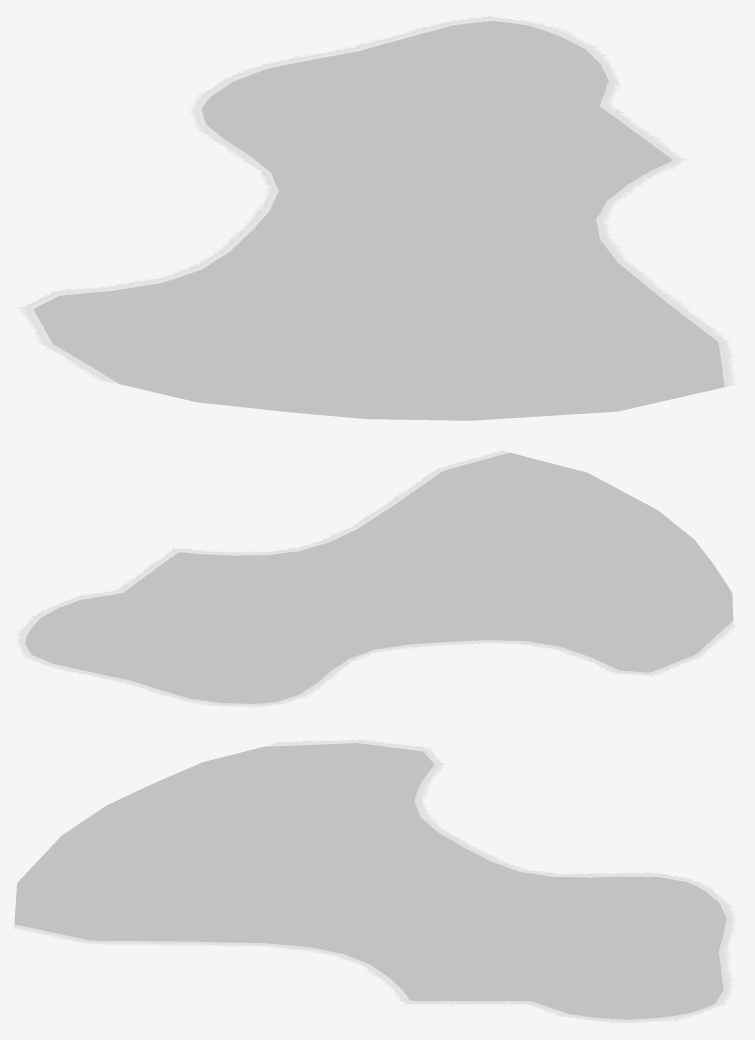
The model's file is ParkGrassV2.fbx.
The picture shows the model from 3 angles, top to bottom: view 1: azimuth 30°, elevation 25°; view 2: azimuth 150°, elevation 25°; view 3: azimuth 270°, elevation 25°; orthographic projection. The views are drawn at different scales.
Parts seen in each view (by area): view 1: ParkGrassV2; view 2: ParkGrassV2; view 3: ParkGrassV2.
Boxes of the visible parts, x1,y1,x2,y2 form: ParkGrassV2: (16, 15, 736, 420); ParkGrassV2: (16, 450, 735, 708); ParkGrassV2: (14, 739, 736, 1024).
Size of the model in its own units: 5056 by 1.69 by 5396.
